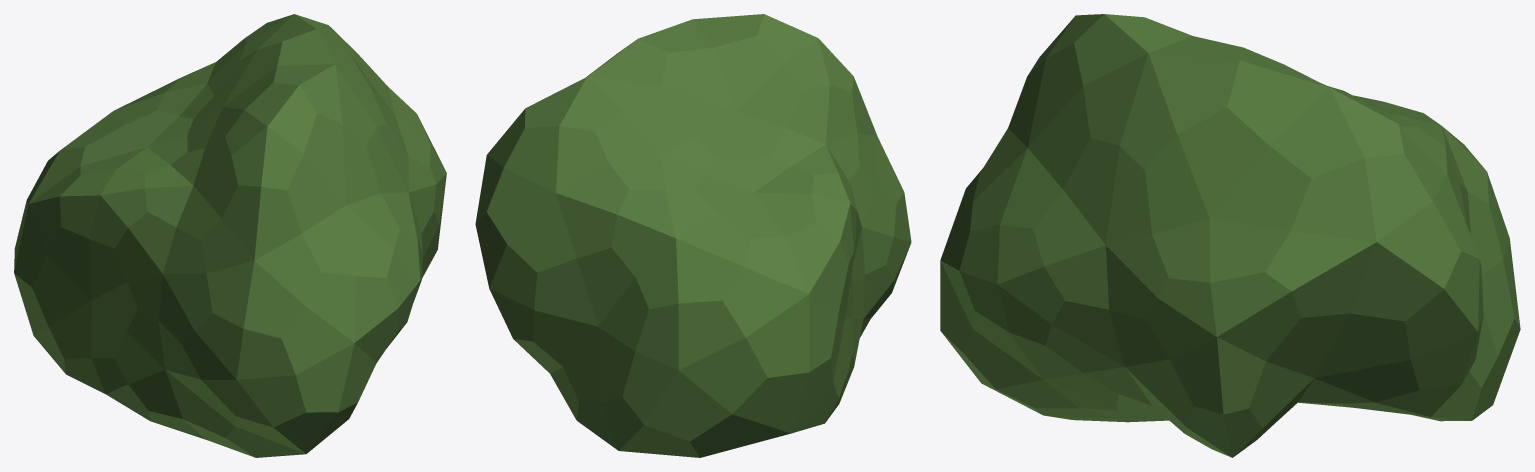
File: bush5.fbx
3 renders of one model, left to right at view 1: azimuth 30°, elevation 25°; view 2: azimuth 150°, elevation 25°; view 3: azimuth 270°, elevation 25°, orthographic. The views are drawn at different scales.
Visible parts, largest first — view 1: Icosphere.010; view 2: Icosphere.010; view 3: Icosphere.010.
Boxes of the visible parts, x1,y1,x2,y2 form: Icosphere.010: [14, 14, 446, 457]; Icosphere.010: [475, 14, 911, 457]; Icosphere.010: [940, 14, 1520, 457].
Size of the model in its own units: 92.67 by 86.94 by 105.
